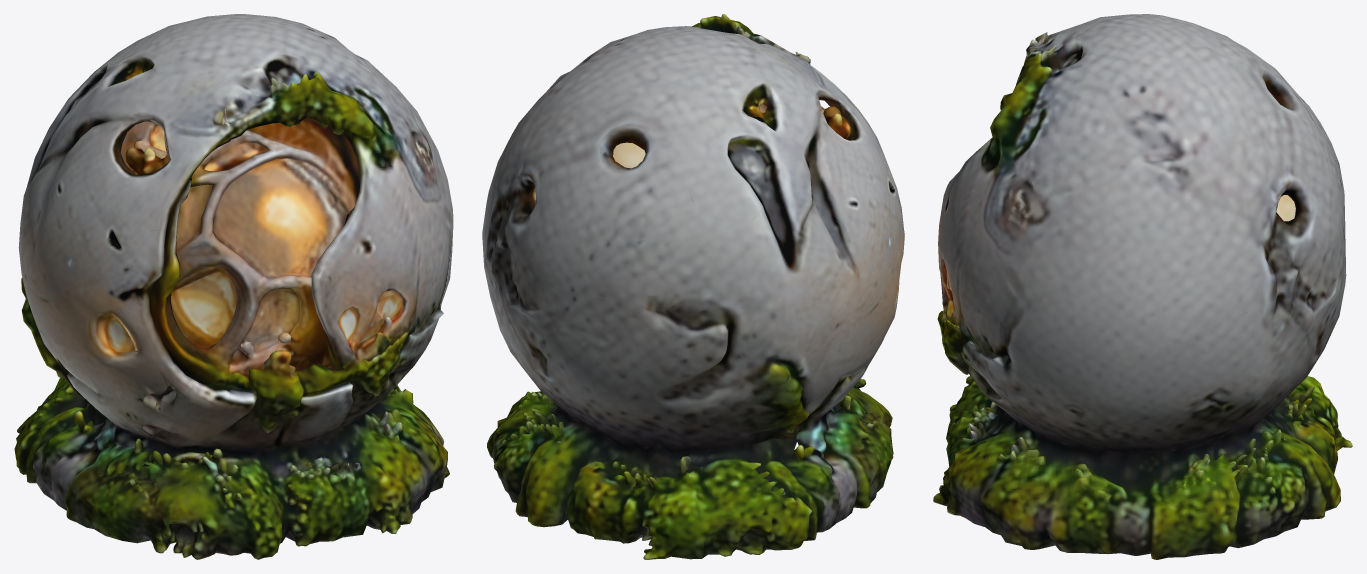
Rendered from bio_orb_sphere_lowpol.glb.
The picture shows the model from 3 angles, left to right: view 1: azimuth 30°, elevation 25°; view 2: azimuth 150°, elevation 25°; view 3: azimuth 270°, elevation 25°; orthographic projection. The views are drawn at different scales.
Parts seen in each view (by area): view 1: geometry_0; view 2: geometry_0; view 3: geometry_0.
Boxes of the visible parts, x1,y1,x2,y2 form: geometry_0: (14, 14, 453, 559); geometry_0: (482, 14, 904, 559); geometry_0: (933, 14, 1352, 559).
Bounding box in the file's own units: 0.8584 × 0.9521 × 0.8184.
1 material, 1 textured.
